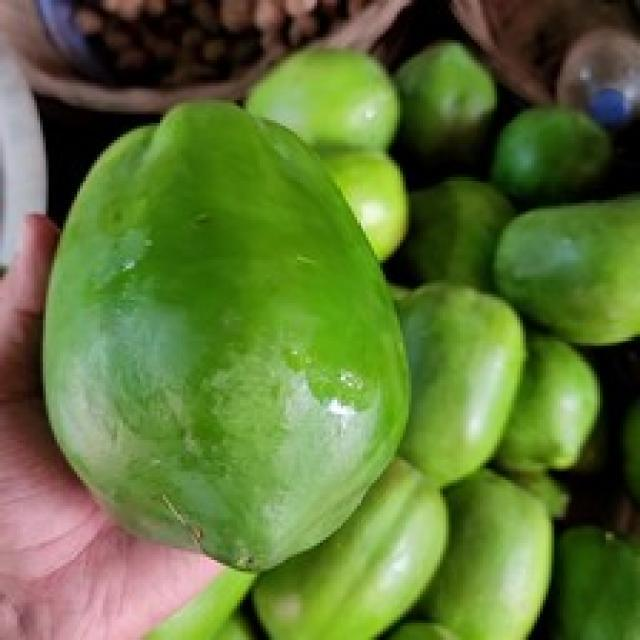Pepaya unrippen: (41, 91, 426, 579)
